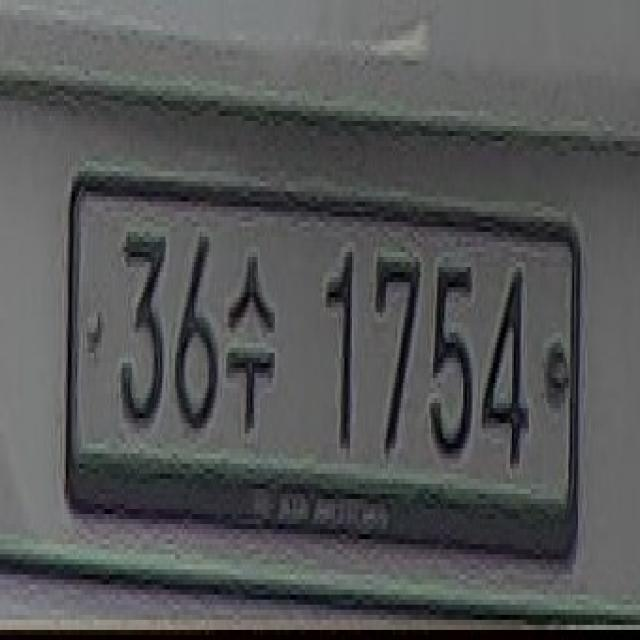1: (320, 242, 354, 453)
3: (119, 222, 168, 433)
4: (478, 267, 531, 464)
5: (424, 257, 476, 474)
6: (175, 227, 218, 433)
7: (369, 247, 423, 459)
license_plate: (62, 166, 578, 534)
su: (224, 237, 279, 438)
